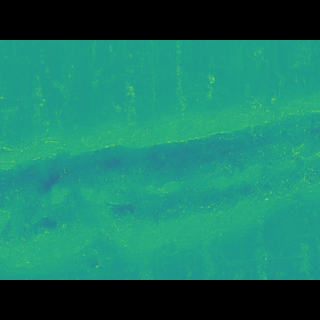Loch: (0, 110, 320, 244)
